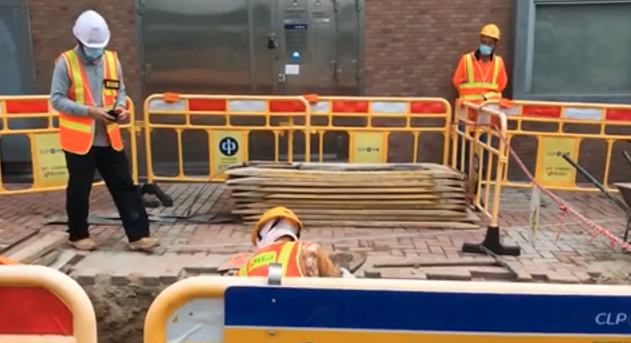Hard Hat: (73, 11, 113, 61), (251, 207, 300, 246), (478, 24, 500, 59)
Person: (53, 12, 160, 252)
Vest: (52, 43, 127, 152), (455, 40, 507, 111), (240, 236, 316, 277)
